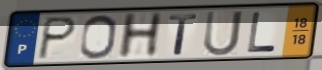H: (115, 11, 166, 61)
L: (245, 11, 278, 54)
O: (78, 13, 119, 61)
P: (35, 16, 79, 62)
T: (168, 12, 200, 56)
U: (202, 9, 245, 58)
